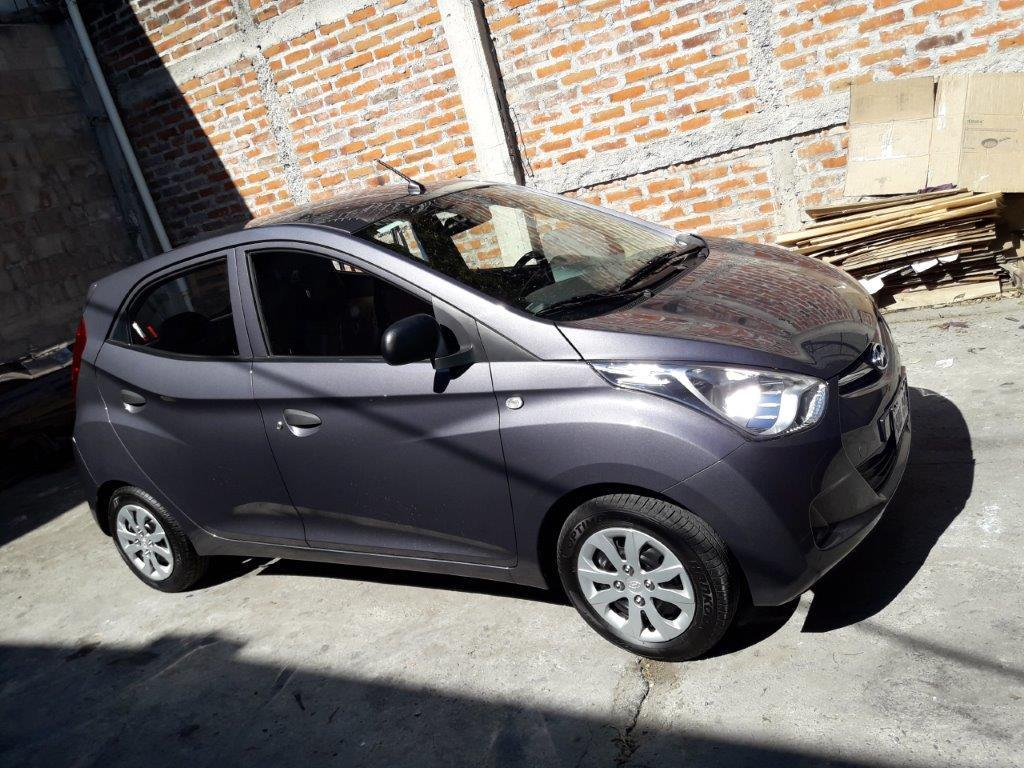eon: (37, 158, 937, 687)
